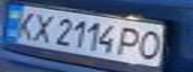1: (84, 19, 103, 52), (69, 17, 87, 51)
2: (48, 15, 75, 47)
4: (96, 21, 121, 55)
K: (6, 8, 42, 41)
O: (133, 27, 169, 61)
P: (112, 25, 151, 58)
X: (24, 10, 60, 44)
